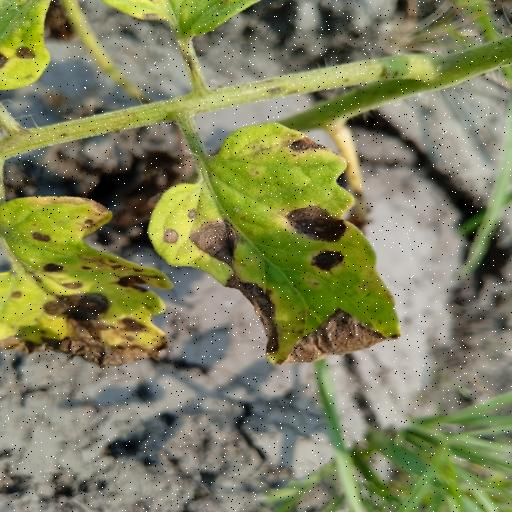Tomato_Brown_Spots: (144, 121, 406, 368), (0, 192, 178, 374)
